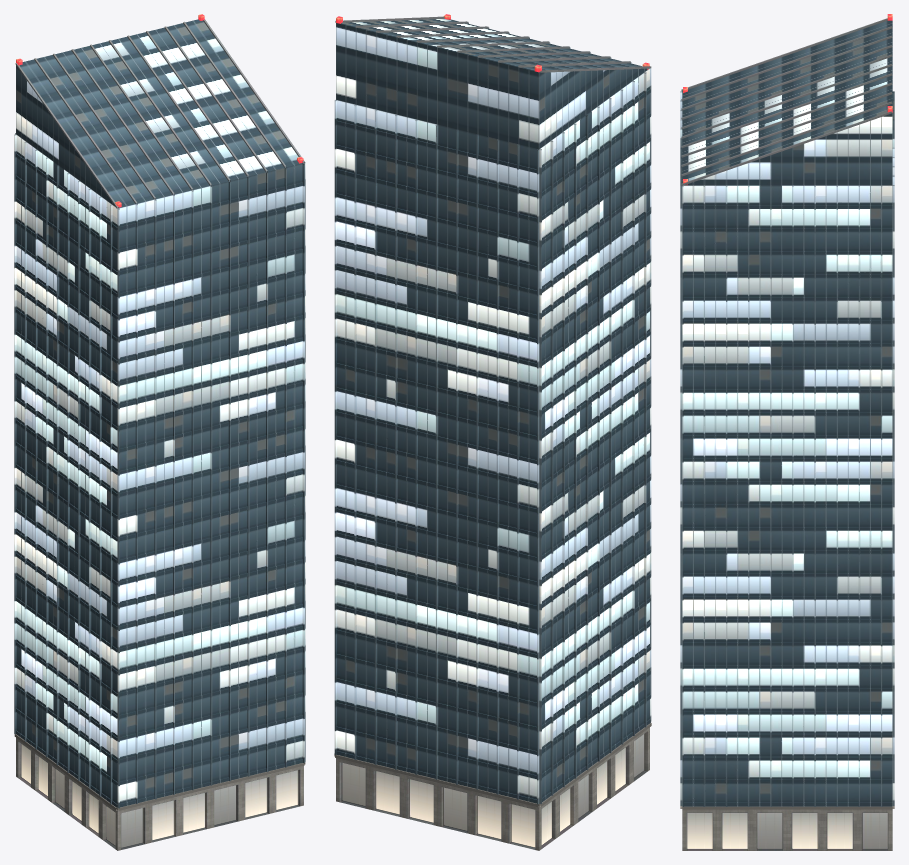
The model's file is tokyo_glasstower_a.glb.
3 renders of one model, left to right at view 1: azimuth 30°, elevation 25°; view 2: azimuth 150°, elevation 25°; view 3: azimuth 270°, elevation 25°, orthographic. The views are drawn at different scales.
Parts seen in each view (by area): view 1: tokyo_glasstower_a; view 2: tokyo_glasstower_a; view 3: tokyo_glasstower_a.
Boxes of the visible parts, x1=… form: tokyo_glasstower_a: x1=14, y1=14, x2=305, y2=850; tokyo_glasstower_a: x1=334, y1=14, x2=651, y2=850; tokyo_glasstower_a: x1=680, y1=14, x2=894, y2=850.
Size of the model in its own units: 36.7 by 132 by 34.7.
1 material, 1 textured.
